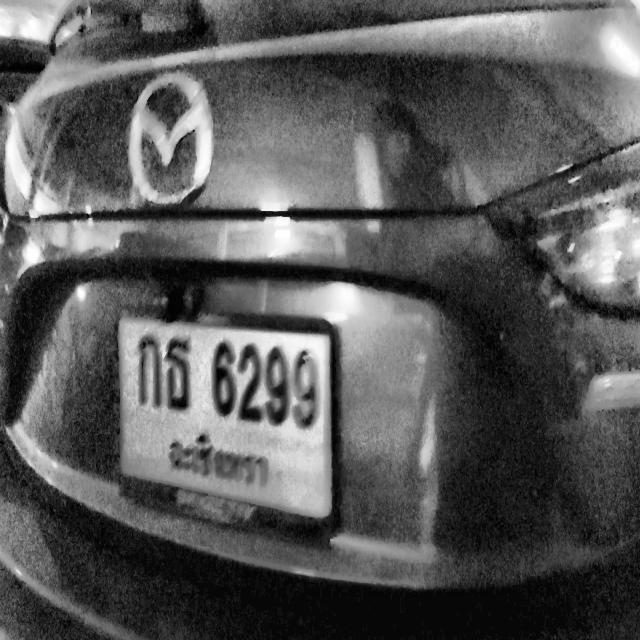license-plate: (118, 319, 331, 519)
